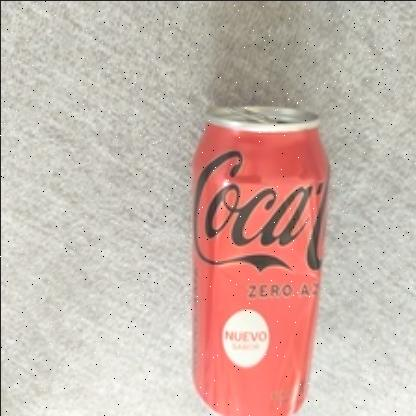Can: (190, 104, 328, 416)
